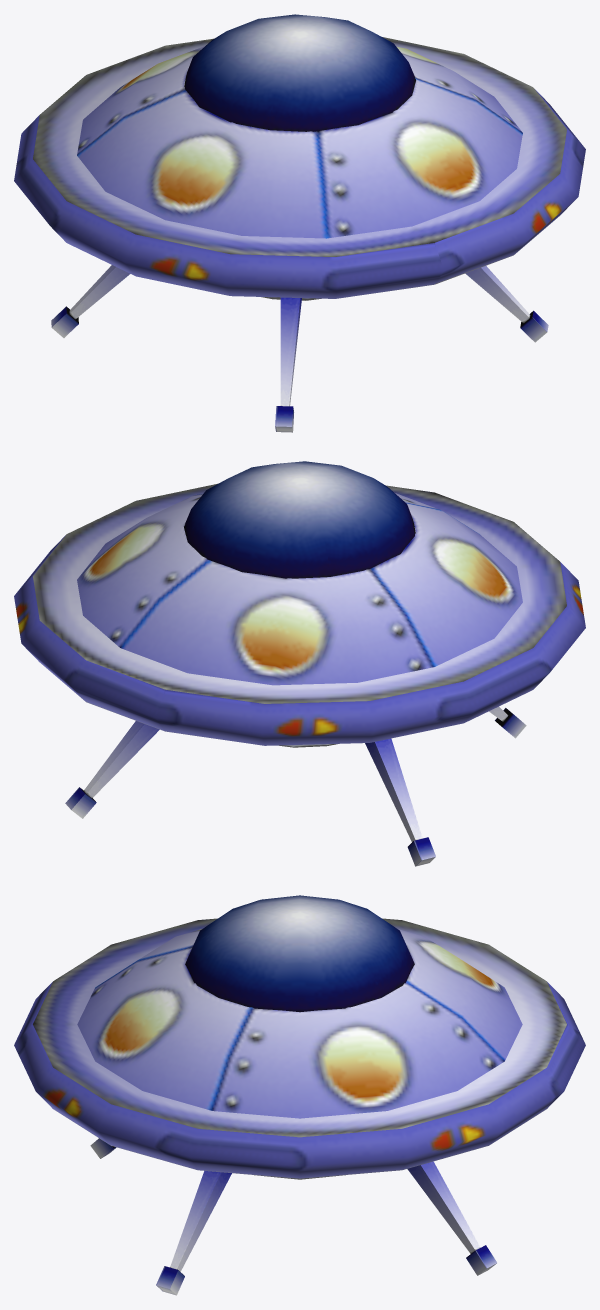
File: ufo.glb
The picture shows the model from 3 angles, top to bottom: view 1: azimuth 30°, elevation 25°; view 2: azimuth 150°, elevation 25°; view 3: azimuth 270°, elevation 25°; orthographic projection.
Visible parts, largest first — view 1: Cube; view 2: Cube; view 3: Cube.
Boxes of the visible parts, box(x1,y1,x2,y2) form: Cube: box(14, 14, 585, 432); Cube: box(14, 461, 585, 866); Cube: box(14, 895, 585, 1295).
Bounding box in the file's own units: 2.12 × 1.22 × 2.12.
Materials: 1 (1 with a texture image).
